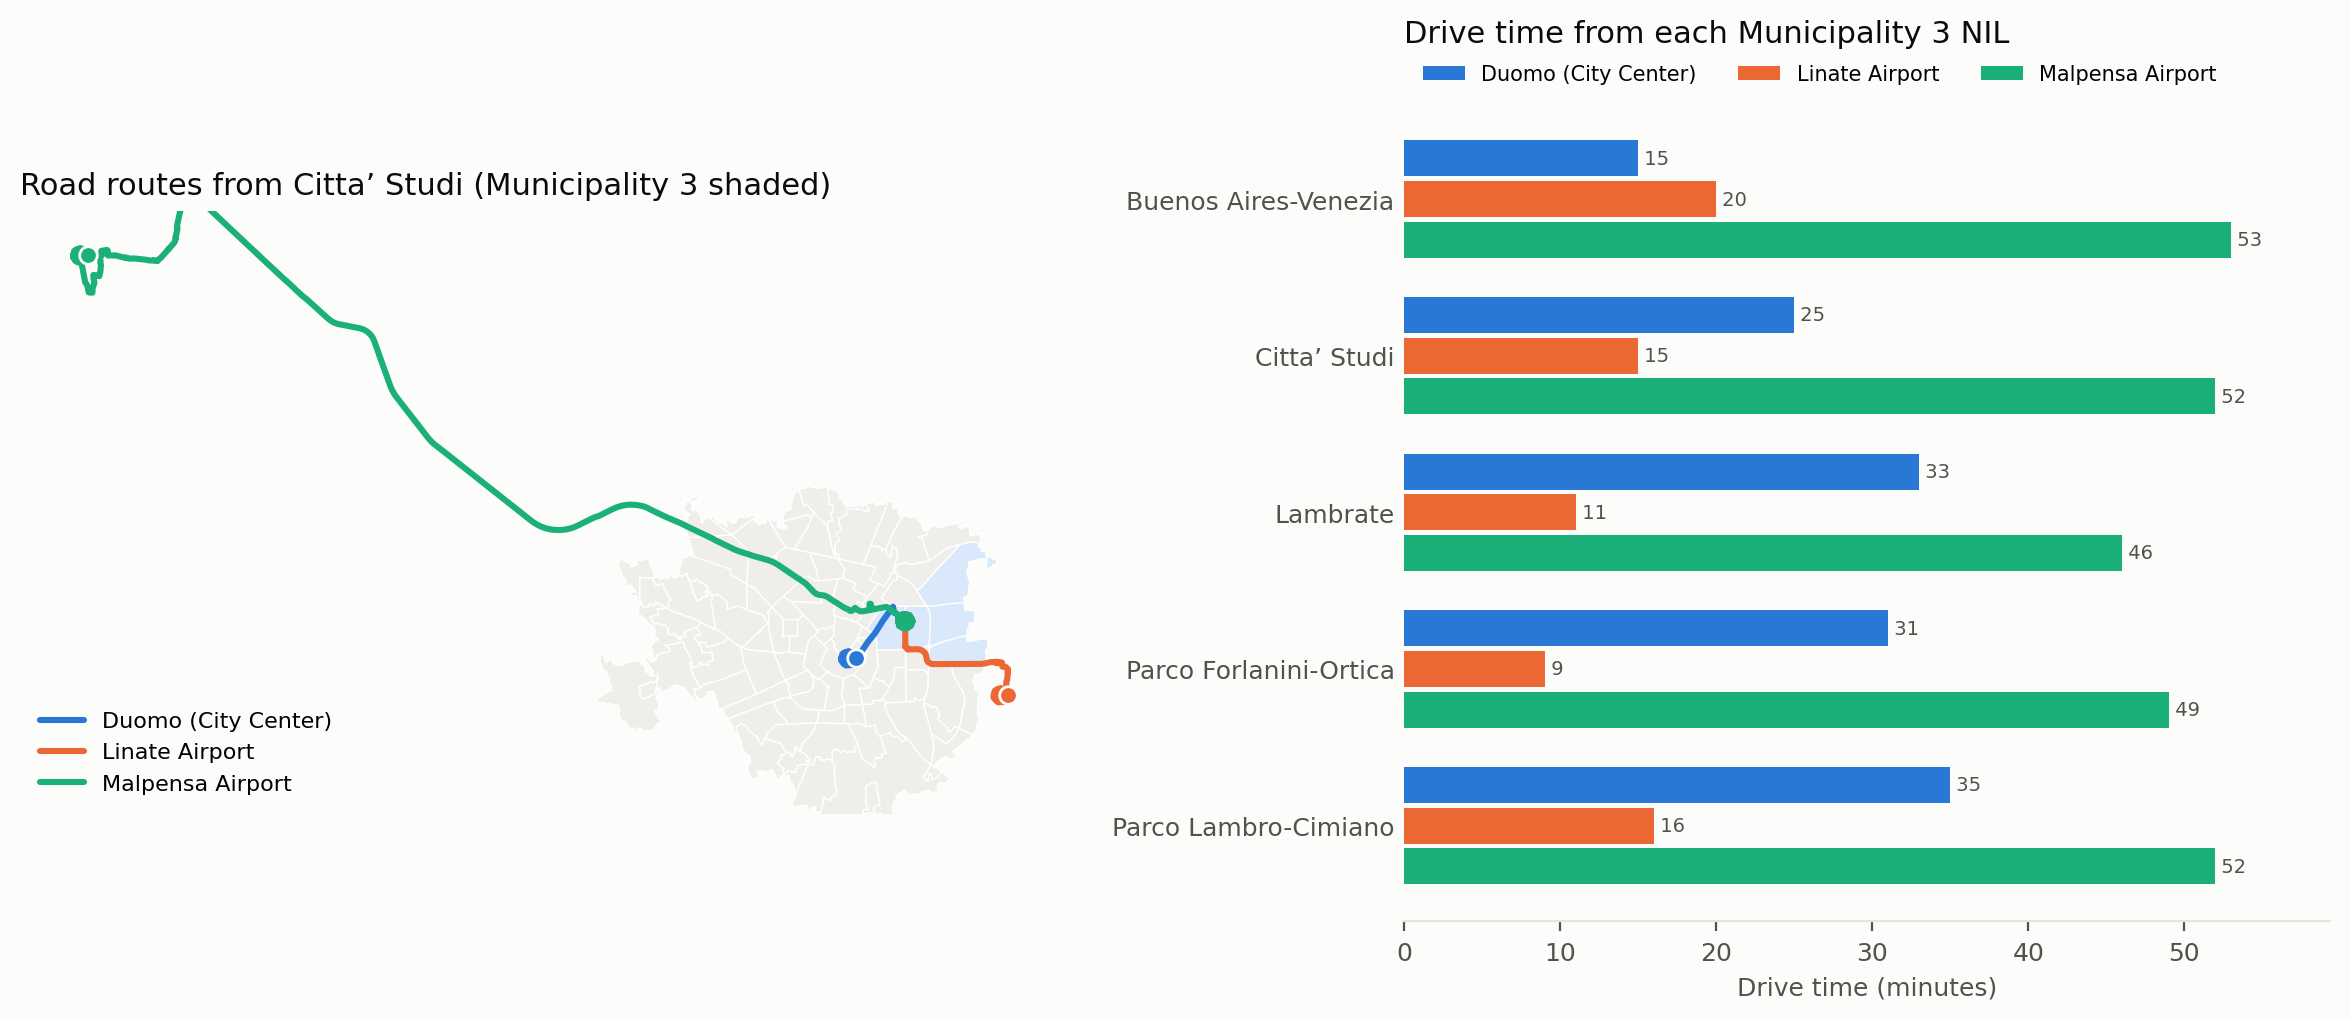

The page's visual inventory and layout, read from the dashboard file:
{"tool":"tableau","page":{"name":"Dashboard 1","canvas":[1000,1000],"units":"permille","ordinal":0},"visuals":[{"type":"worksheet","title":"Map","mark":"Automatic","box":[5.1,7.8,888.2,565.5]},{"type":"parameter","param":"[Parameters].[Availability 365 Parameter]","box":[893.3,7.8,101.6,93.4]},{"type":"legend","title":"Map","param":"[federated.1q7xab217zq9n30zr58dx1af5mym].[usr:Calculation_3398714242199560:qk]","box":[893.3,101.2,101.6,73]},{"type":"parameter","param":"[Parameters].[Drill_Municipality]","box":[893.3,217.9,101.6,146.9]},{"type":"worksheet","title":"Top NILs by Metric","mark":"Bar","rows":["Calculation_8000000000000001"],"cols":["Calculation_3398714242199560"],"box":[5.1,573.3,888.2,418.9]}]}

Visuals, with their boxes on the dashboard's canvas, which has no fixed pixel size, in thousandths of its width and height (x1, y1, x2, y2). These are canvas units, not pixel positions in the 2350x1020 screenshot, which may show the page scaled, cropped or inside an application window:
"Map" worksheet: box(5, 8, 893, 573)
parameter: box(893, 8, 995, 101)
"Map" legend: box(893, 101, 995, 174)
parameter: box(893, 218, 995, 365)
"Top NILs by Metric" worksheet (Bar marks): box(5, 573, 893, 992)
